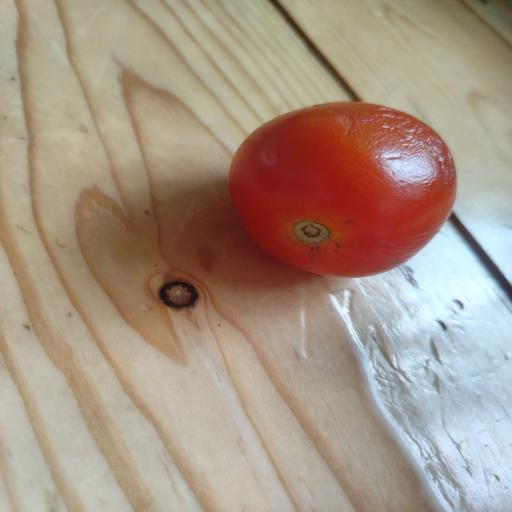spoiled: (229, 102, 456, 277)
